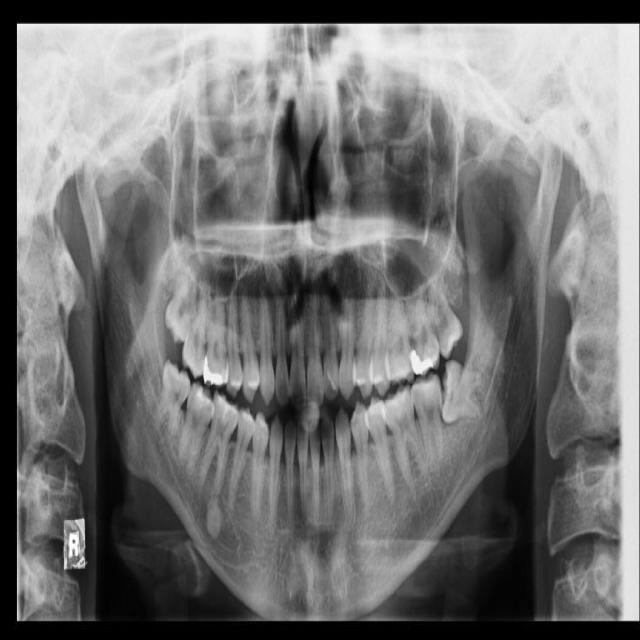3M ESPE Implant: (159, 234, 207, 346)
52: (203, 388, 247, 442), (184, 379, 218, 434), (409, 334, 441, 379), (350, 347, 376, 402), (202, 348, 230, 390), (240, 352, 262, 404), (369, 348, 391, 397), (250, 412, 271, 457), (226, 355, 244, 400), (237, 406, 255, 446)
73: (608, 587, 617, 597)
BioHorizons Implant: (410, 263, 440, 379)
BioLife Implant: (413, 249, 470, 361)
Biomet 3i Implant: (435, 358, 488, 429)
Blue Sky Bio Implant: (408, 370, 451, 473)
Caries: (180, 260, 213, 381)
Implant: (175, 380, 219, 477)
Keystone Dental Implant: (150, 358, 196, 450)
